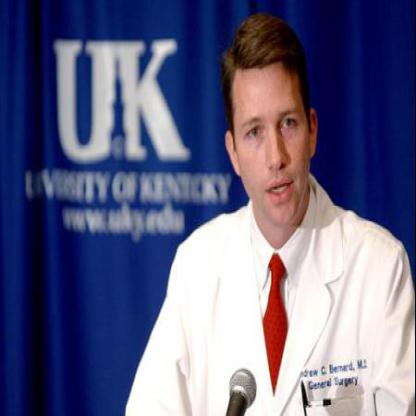face: (235, 30, 311, 231)
